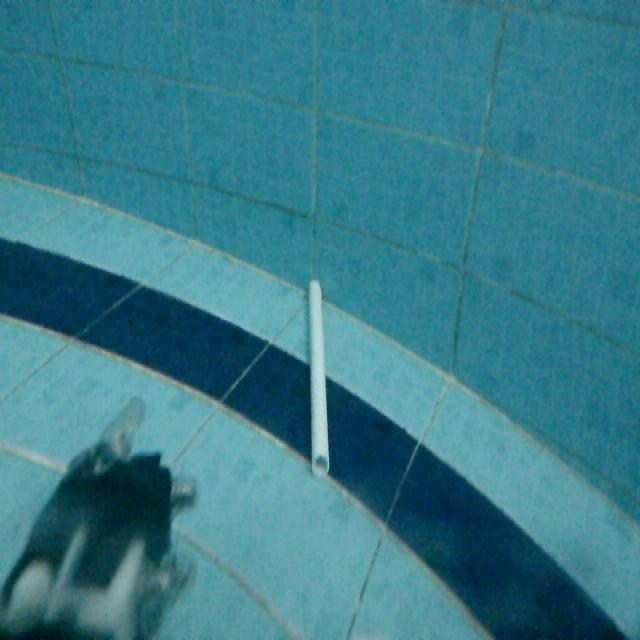Cube: (303, 274, 333, 478)
